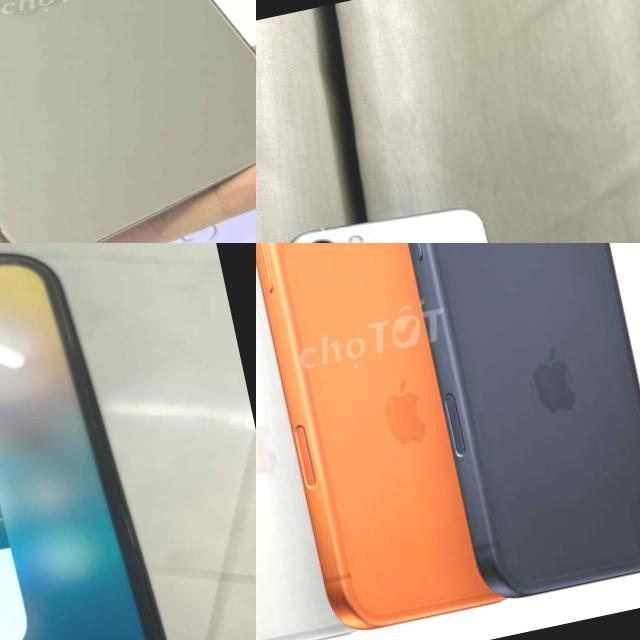gen_15: (0, 0, 256, 243)
gen_17: (362, 243, 640, 619)
gen_x_xs: (0, 253, 165, 640)
